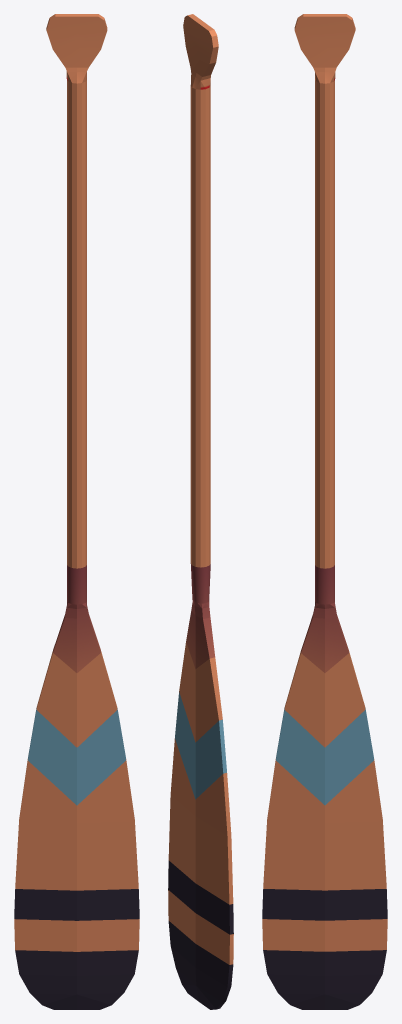
The model's file is Boat Oar.FBX.
3 renders of one model, left to right at view 1: azimuth 90°, elevation 25°; view 2: azimuth 210°, elevation 25°; view 3: azimuth 270°, elevation 25°, orthographic.
Visible parts, largest first — view 1: Boat Oar; view 2: Boat Oar; view 3: Boat Oar.
Boxes of the visible parts, left/top/right/bottom form: Boat Oar: left=14, top=14, right=139, bottom=1009; Boat Oar: left=168, top=14, right=233, bottom=1009; Boat Oar: left=262, top=14, right=387, bottom=1009.
Size of the model in its own units: 2.01 by 109 by 12.44.
